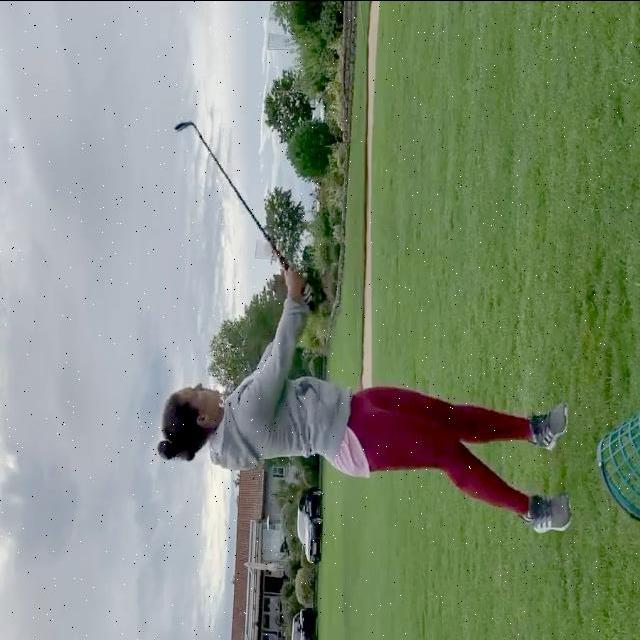ClubHandle: (172, 117, 320, 313)
ClubHead: (174, 119, 192, 132)
